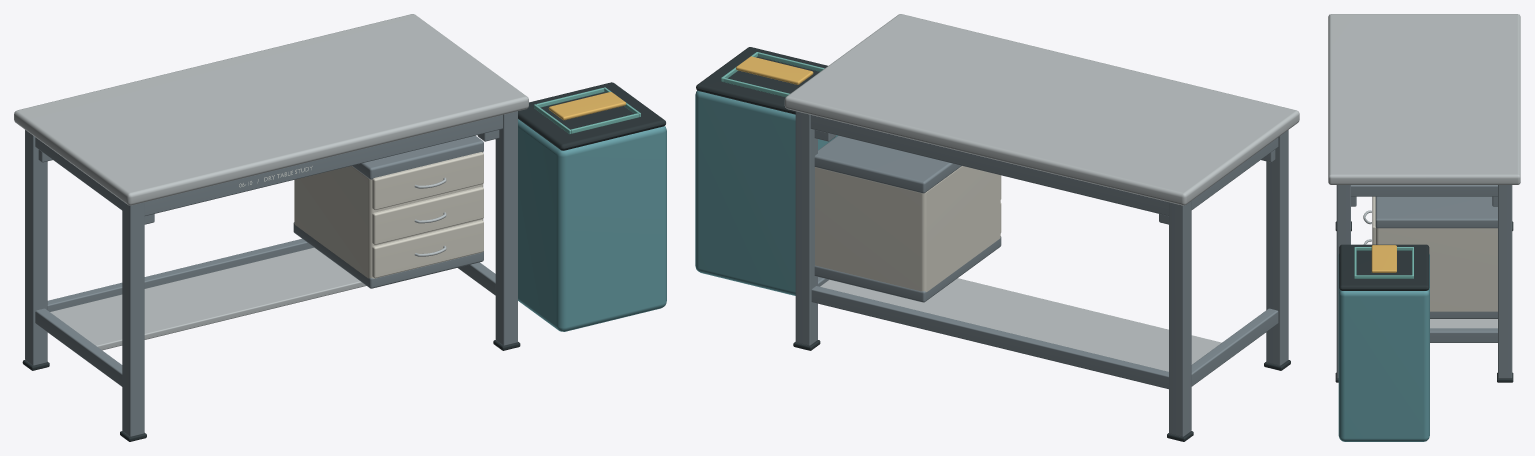
The model's file is dry-table.glb.
3 views of the same model, side by side, from view 1: azimuth 30°, elevation 25°; view 2: azimuth 150°, elevation 25°; view 3: azimuth 270°, elevation 25° (orthographic). The views are drawn at different scales.
Visible parts, largest first — view 1: Dry_bench_empty_top, Offline_projection_pedestal, Dry_bench_nominal_lower_shelf, Dry_storage_box_outer, Dry_bench_leg, Dry_bench_long_rail, Dry_bench_leg.002, Dry_bench_leg.001, Offline_projection_top, Dry_storage_static_drawer_0, Dry_storage_static_drawer_1, Dry_storage_static_drawer_2 (+7 smaller); view 2: Dry_bench_empty_top, Offline_projection_pedestal, Dry_storage_box_outer, Dry_bench_nominal_lower_shelf, Dry_bench_rear_crossrail, Dry_bench_leg.001, Dry_bench_long_rail.001, Dry_bench_leg, Dry_bench_leg.003, Dry_empty_storage_support.001, Offline_projection_top, Dry_empty_storage_support (+3 smaller); view 3: Dry_bench_empty_top, Offline_projection_pedestal, Dry_storage_box_outer, Dry_empty_storage_support.001, Offline_projection_top, Dry_bench_leg.003, Dry_bench_short_rails.003, Dry_bench_leg.002, Dry_bench_short_rails.002, Offline_footprint_token, Dry_bench_nominal_lower_shelf, Dry_empty_storage_support (+1 smaller).
Part boxes in pixels (<box>): Dry_bench_empty_top: <box>14,14,528,205</box>; Offline_projection_pedestal: <box>518,119,666,331</box>; Dry_bench_nominal_lower_shelf: <box>50,247,366,350</box>; Dry_storage_box_outer: <box>294,152,483,278</box>; Dry_bench_leg: <box>122,201,144,436</box>; Dry_bench_long_rail: <box>144,115,502,215</box>; Dry_bench_leg.002: <box>495,111,517,345</box>; Dry_bench_leg.001: <box>25,130,47,365</box>; Offline_projection_top: <box>518,82,665,150</box>; Dry_storage_static_drawer_0: <box>372,220,483,278</box>; Dry_storage_static_drawer_1: <box>372,186,483,244</box>; Dry_storage_static_drawer_2: <box>372,152,483,209</box>; Dry_bench_empty_top: <box>784,14,1299,205</box>; Offline_projection_pedestal: <box>695,90,837,295</box>; Dry_storage_box_outer: <box>815,166,1000,291</box>; Dry_bench_nominal_lower_shelf: <box>820,278,1221,371</box>; Dry_bench_rear_crossrail: <box>811,286,1168,389</box>; Dry_bench_leg.001: <box>1169,201,1191,436</box>; Dry_bench_long_rail.001: <box>810,115,1168,216</box>; Dry_bench_leg: <box>1266,130,1288,365</box>; Dry_bench_leg.003: <box>795,111,817,345</box>; Dry_empty_storage_support.001: <box>814,135,961,193</box>; Offline_projection_top: <box>696,47,827,114</box>; Dry_empty_storage_support: <box>814,236,1001,302</box>; Dry_bench_empty_top: <box>1328,14,1520,184</box>; Offline_projection_pedestal: <box>1338,254,1429,441</box>; Dry_storage_box_outer: <box>1376,228,1497,311</box>; Dry_empty_storage_support.001: <box>1375,196,1497,228</box>; Offline_projection_top: <box>1339,244,1429,290</box>; Dry_bench_leg.003: <box>1498,185,1512,378</box>; Dry_bench_short_rails.003: <box>1351,185,1497,196</box>; Dry_bench_leg.002: <box>1336,185,1350,378</box>; Dry_bench_short_rails.002: <box>1430,328,1497,342</box>; Offline_footprint_token: <box>1371,245,1396,272</box>; Dry_bench_nominal_lower_shelf: <box>1430,319,1497,328</box>; Dry_empty_storage_support: <box>1430,311,1497,318</box>.
Bounding box in the file's own units: 2.08 × 0.9144 × 0.762.
